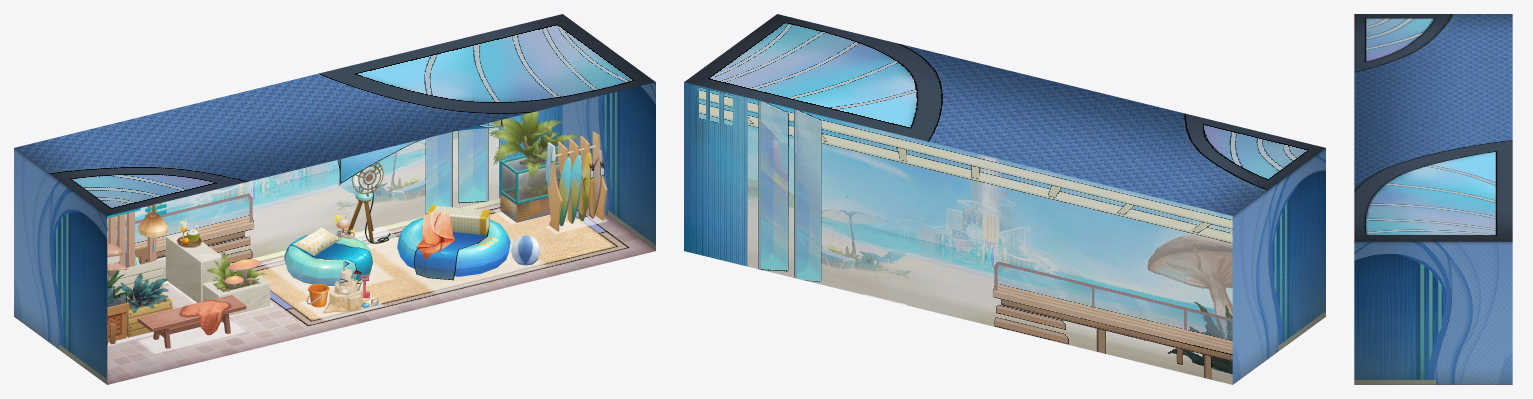
The model's file is idealCity.glb.
The picture shows the model from 3 angles, left to right: view 1: azimuth 30°, elevation 25°; view 2: azimuth 150°, elevation 25°; view 3: azimuth 270°, elevation 25°; orthographic projection. The views are drawn at different scales.
Visible parts, largest first — view 1: ROOM_room, ROOM_floor, furni_idealCity_beach_01, furni_idealCity_pottedPlant_01, furni_idealCity_partition_01, furni_idealCity_sofa_L_01, furni_idealCity_surfboard_01, furni_idealCity_sofa_S_01, furni_idealCity_sofa_L_02, furni_idealCity_pottedPlant2_03, furni_idealCity_pottedPlant2_01, shadow_01.007 (+16 smaller); view 2: ROOM_room, ROOM_LDoor; view 3: ROOM_room, ROOM_RDoor.
Part boxes in pixels (x1,y1,x2,y2): ROOM_room: [14, 14, 655, 384]; ROOM_floor: [107, 198, 655, 384]; furni_idealCity_beach_01: [234, 207, 629, 325]; furni_idealCity_pottedPlant_01: [165, 219, 270, 315]; furni_idealCity_partition_01: [107, 203, 172, 345]; furni_idealCity_sofa_L_01: [397, 205, 540, 276]; furni_idealCity_surfboard_01: [547, 131, 607, 231]; furni_idealCity_sofa_S_01: [285, 210, 372, 285]; furni_idealCity_sofa_L_02: [414, 211, 488, 280]; furni_idealCity_pottedPlant2_03: [488, 111, 582, 196]; furni_idealCity_pottedPlant2_01: [500, 138, 569, 222]; shadow_01.007: [374, 237, 546, 293]; ROOM_room: [684, 14, 1325, 384]; ROOM_LDoor: [1293, 250, 1312, 340]; ROOM_room: [1354, 14, 1512, 384]; ROOM_RDoor: [1377, 319, 1410, 384].
Bounding box in the file's own units: 7.52 × 2.2 × 2.28.
6 materials, 6 textured.
